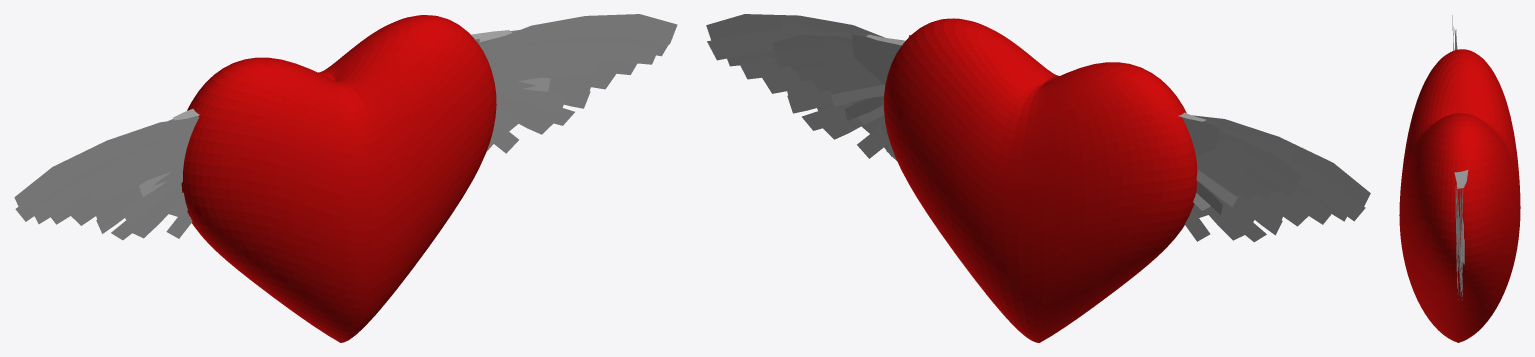
3 views of the same model, side by side, from view 1: azimuth 30°, elevation 25°; view 2: azimuth 150°, elevation 25°; view 3: azimuth 270°, elevation 25° (orthographic). The views are drawn at different scales.
Parts seen in each view (by area): view 1: Simmetria_Ali_terza_parte_Piano_93.001; view 2: Simmetria_Ali_terza_parte_Piano_93.001; view 3: Simmetria_Ali_terza_parte_Piano_93.001.
Boxes of the visible parts, <box> form: Simmetria_Ali_terza_parte_Piano_93.001: <box>14,14,677,342</box>; Simmetria_Ali_terza_parte_Piano_93.001: <box>706,14,1370,342</box>; Simmetria_Ali_terza_parte_Piano_93.001: <box>1399,15,1520,342</box>.
Size of the model in its own units: 5.03 by 2.19 by 0.9429.
